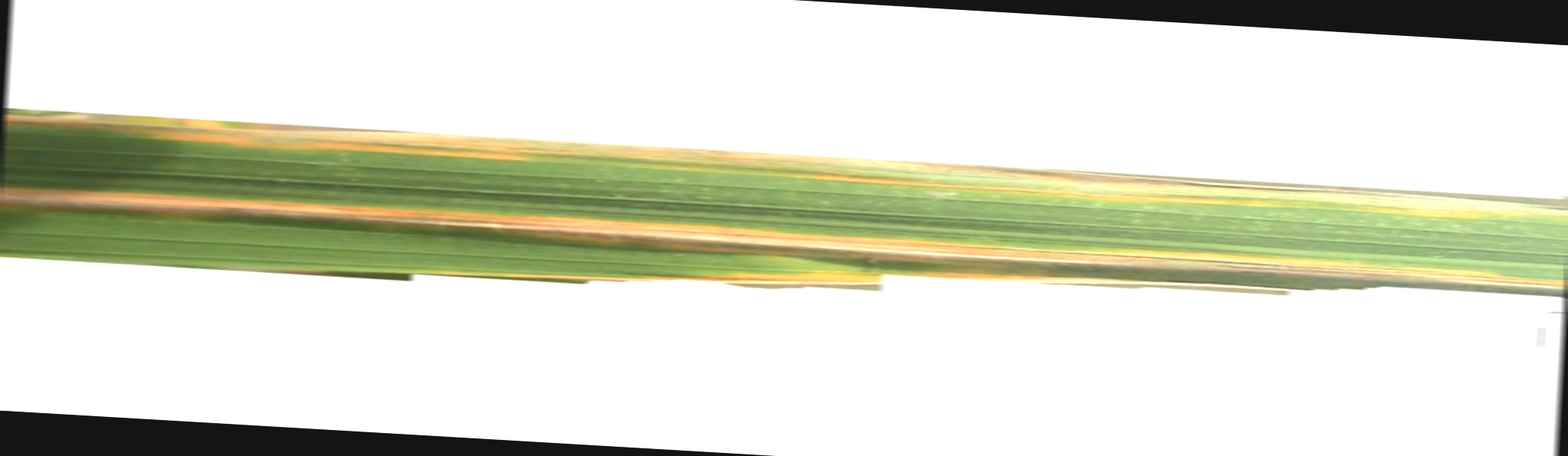Leaf_Blast: (6, 214, 1536, 284), (30, 129, 1543, 197)
